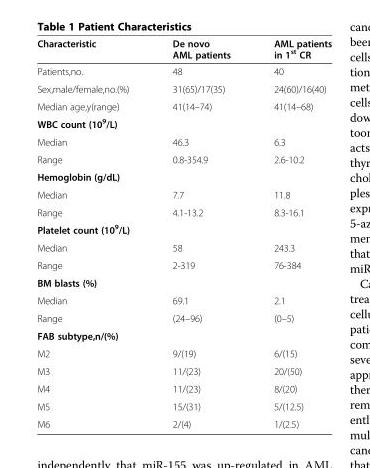table: (36, 37, 331, 429)
table column: (36, 37, 150, 429), (150, 37, 251, 429), (251, 37, 331, 429)
table column header: (36, 37, 331, 62)
table projected row header: (36, 114, 331, 132), (36, 167, 331, 185), (36, 220, 331, 238), (36, 273, 331, 291), (36, 326, 331, 344)
table row: (36, 37, 331, 62), (36, 79, 331, 97), (36, 114, 331, 132), (36, 132, 331, 150), (36, 167, 331, 185), (36, 185, 331, 203), (36, 220, 331, 238), (36, 238, 331, 256), (36, 273, 331, 291), (36, 291, 331, 309), (36, 326, 331, 344), (36, 344, 331, 362), (36, 379, 331, 397), (36, 62, 331, 79), (36, 97, 331, 114), (36, 150, 331, 167), (36, 203, 331, 220), (36, 256, 331, 273), (36, 309, 331, 326), (36, 362, 331, 379), (36, 397, 331, 414), (36, 414, 331, 429)
